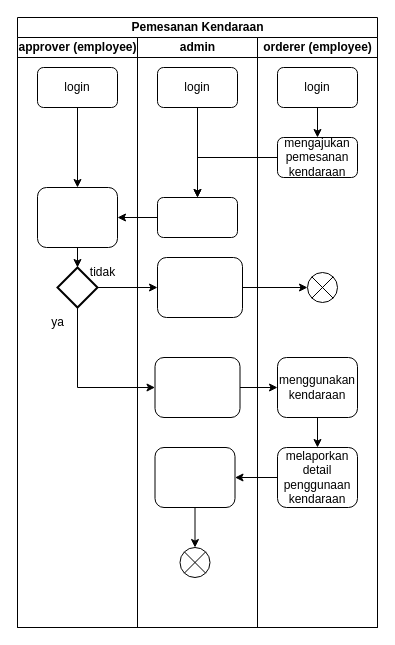
Some shapes in this 395 by 645 pixel diagram are drawn without their labels. The shapes that lost their labels are listed below. From the top down, each one's centre as x and y in pixels, then its label:
At (x=77, y=217): "menyetujui / menolak pemesanan kendaraan".
At (x=197, y=217): "memilih penyetuju & driver".
At (x=199, y=287): "memberitahukan pemesan tidak di acc".
At (x=197, y=387): "memberitahukan pemesan telah di acc".
At (x=194, y=477): "input data penggunaan kendaraan".
